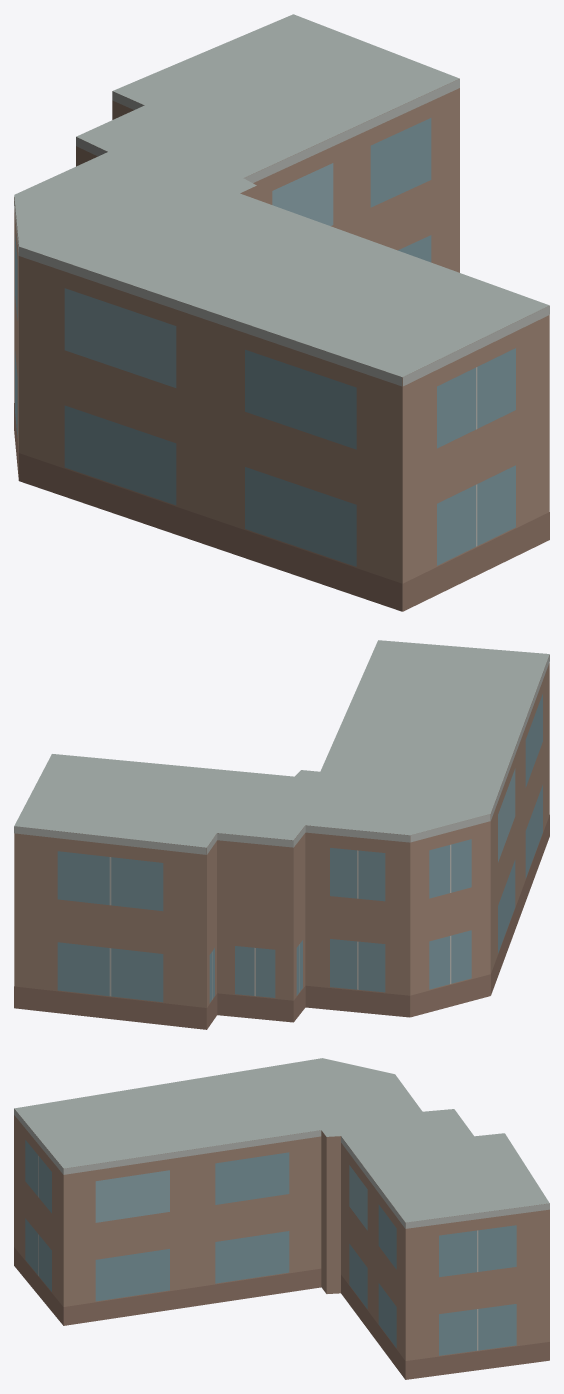
The model's file is survey-upis-32792811.glb.
3 renders of one model, top to bottom at view 1: azimuth 30°, elevation 25°; view 2: azimuth 150°, elevation 25°; view 3: azimuth 270°, elevation 25°, orthographic. The views are drawn at different scales.
Parts seen in each view (by area): view 1: survey-upis-32792811.tmp; view 2: survey-upis-32792811.tmp; view 3: survey-upis-32792811.tmp.
Part boxes in pixels (left/top/right/bottom): survey-upis-32792811.tmp: left=14, top=14, right=549, bottom=611; survey-upis-32792811.tmp: left=14, top=640, right=549, bottom=1029; survey-upis-32792811.tmp: left=14, top=1058, right=549, bottom=1379.
Bounding box in the file's own units: 13.7 × 6.1 × 18.85.
